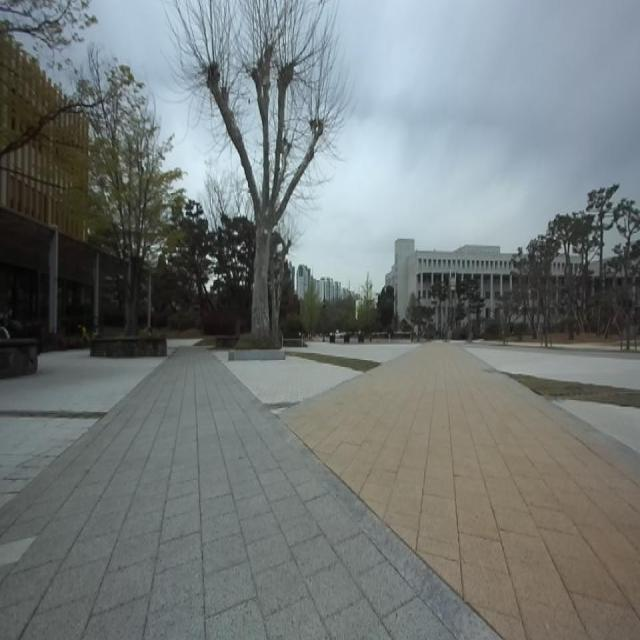sidewalk: (0, 347, 496, 639), (284, 342, 640, 639)
